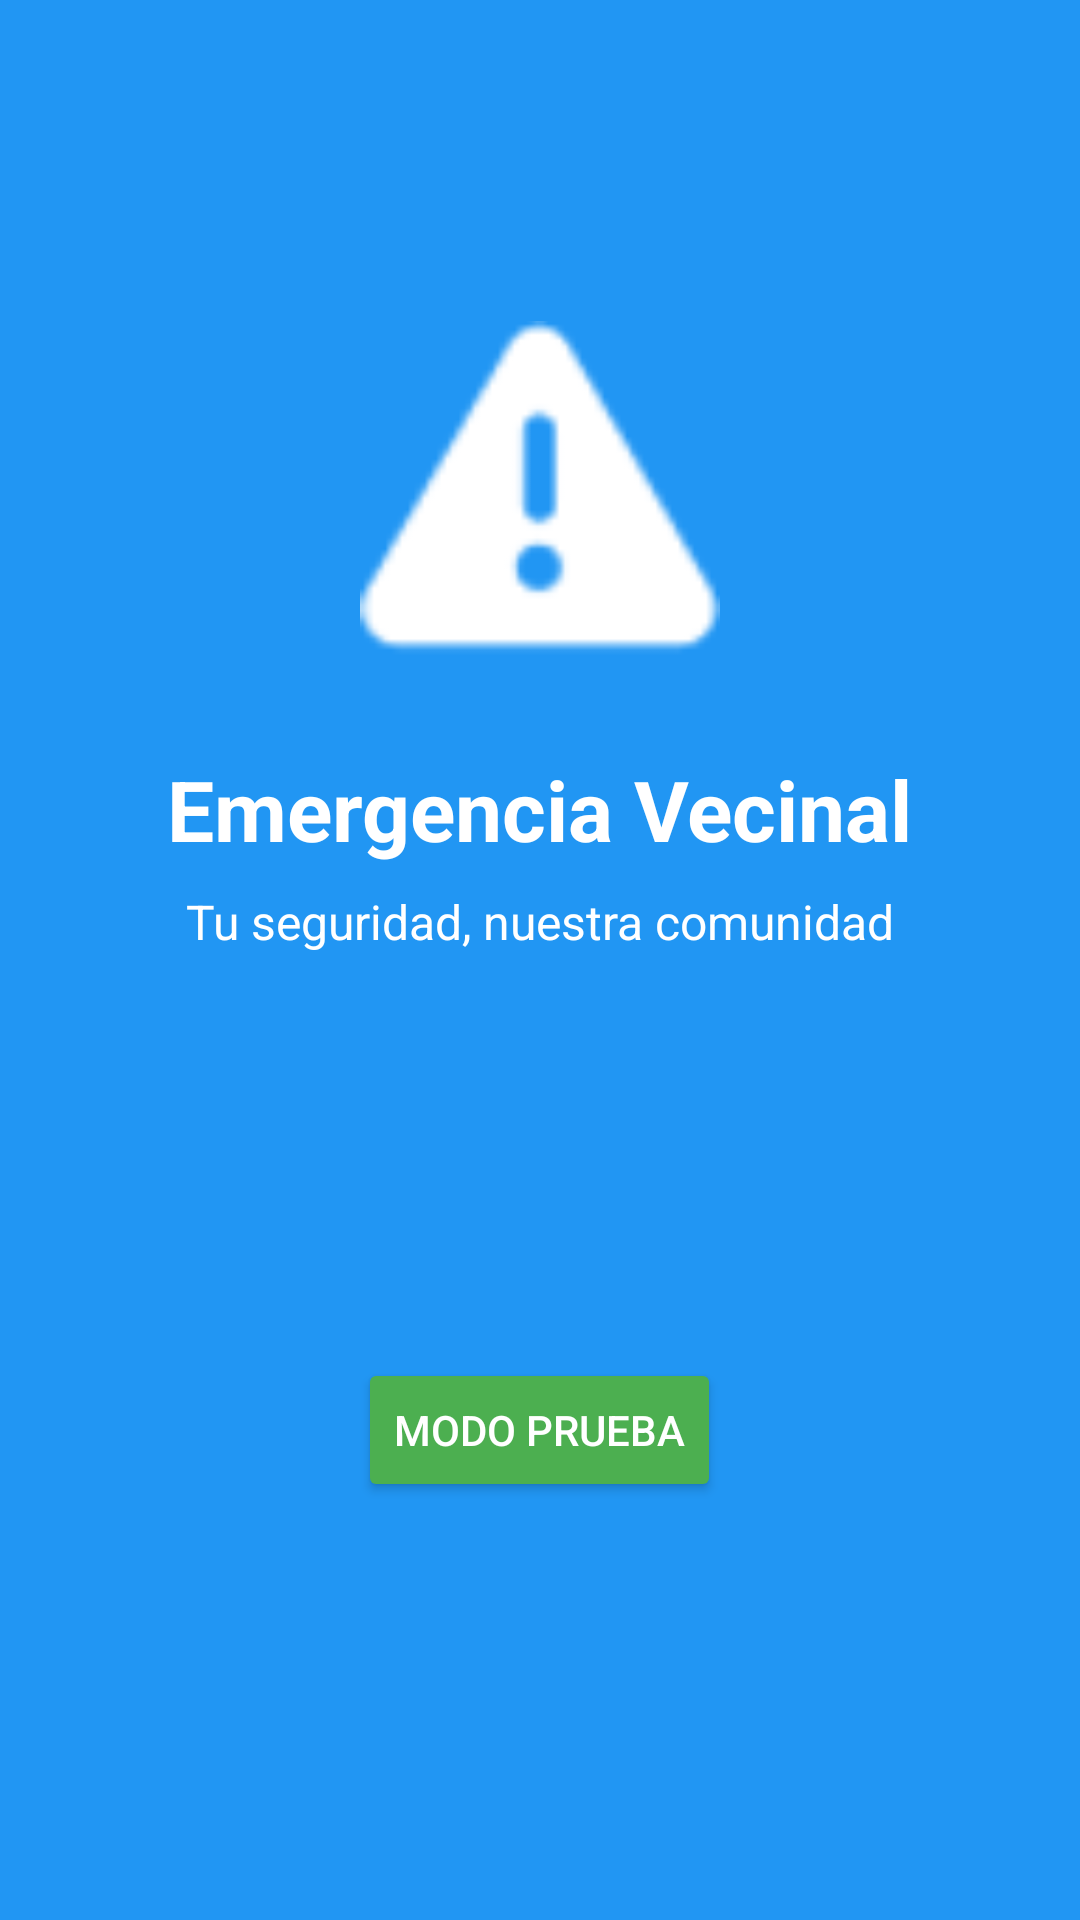

Icons on this 1080 × 1920 Android screen, each with its box as (x1, y1, x2, y2):
alert: (360, 321, 720, 650)
